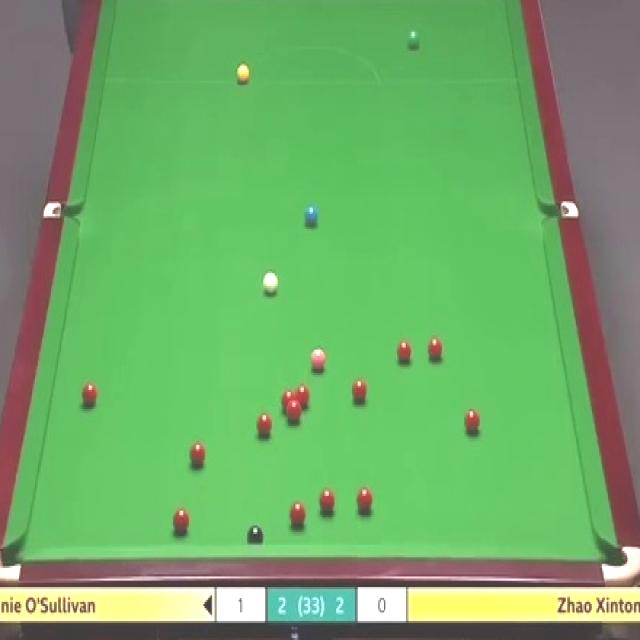black-ball: (246, 526, 264, 543)
blue-ball: (303, 205, 318, 228)
green-ball: (408, 27, 419, 48)
pink-ball: (308, 347, 328, 371)
red-ball: (463, 408, 482, 437), (255, 411, 274, 439), (188, 441, 207, 468), (286, 398, 303, 428), (318, 488, 336, 516), (172, 506, 190, 533), (288, 500, 306, 527), (293, 384, 311, 408), (356, 488, 374, 512), (427, 335, 442, 363), (80, 384, 98, 407), (352, 378, 368, 402), (397, 341, 413, 363), (282, 390, 296, 414)
white-ball: (262, 272, 278, 296)
yellow-ball: (234, 64, 251, 85)
